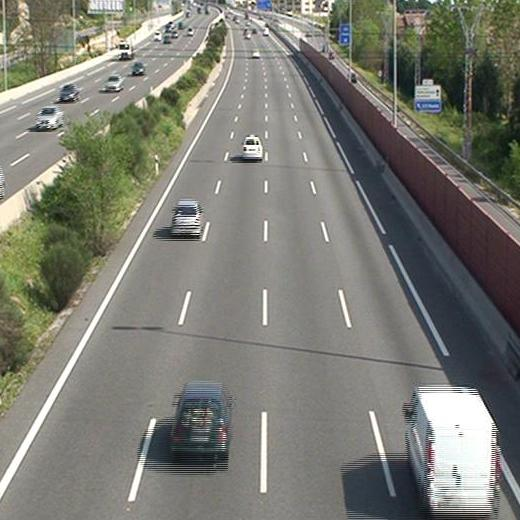car: (170, 381, 229, 458), (171, 200, 204, 236), (242, 136, 264, 161), (251, 47, 261, 58)
van: (403, 387, 501, 520)
